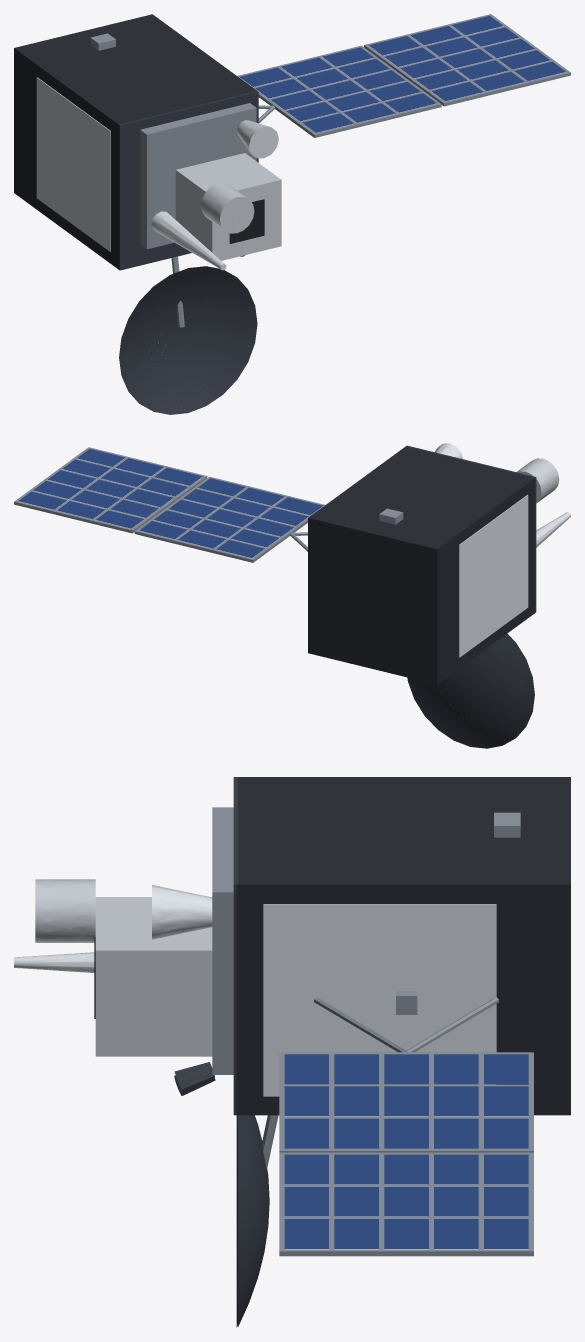
Rendered from himawari.glb.
3 views of the same model, one above another, from view 1: azimuth 30°, elevation 25°; view 2: azimuth 150°, elevation 25°; view 3: azimuth 270°, elevation 25° (orthographic). The views are drawn at different scales.
Visible parts, largest first — view 1: body, foil, solar-panel; view 2: foil, body, solar-panel; view 3: foil, body, solar-panel.
Boxes of the visible parts, x1,y1,x2,y2 form: body: (36, 14, 570, 414); foil: (14, 14, 281, 269); solar-panel: (239, 15, 565, 132); foil: (308, 446, 534, 684); body: (14, 443, 570, 748); solar-panel: (18, 449, 323, 557); foil: (95, 777, 570, 1115); body: (14, 777, 533, 1327); solar-panel: (284, 1054, 528, 1248).
Size of the model in its own units: 8.07 by 5.17 by 5.25.
